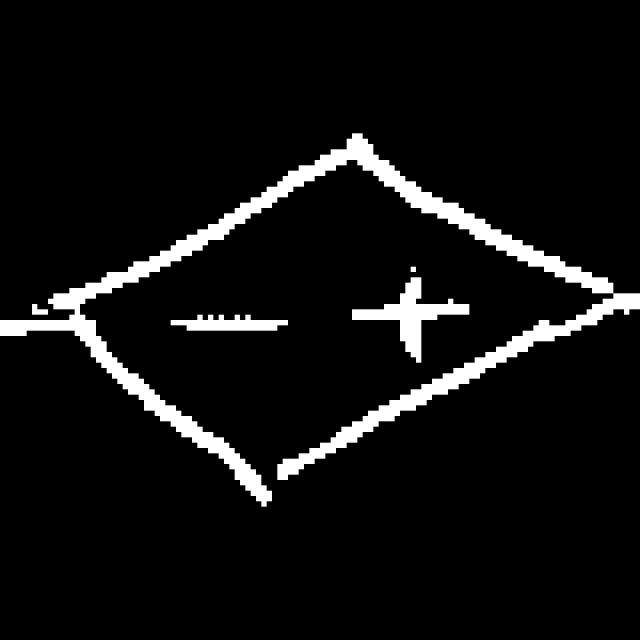dependant_voltage: (52, 138, 616, 508)
